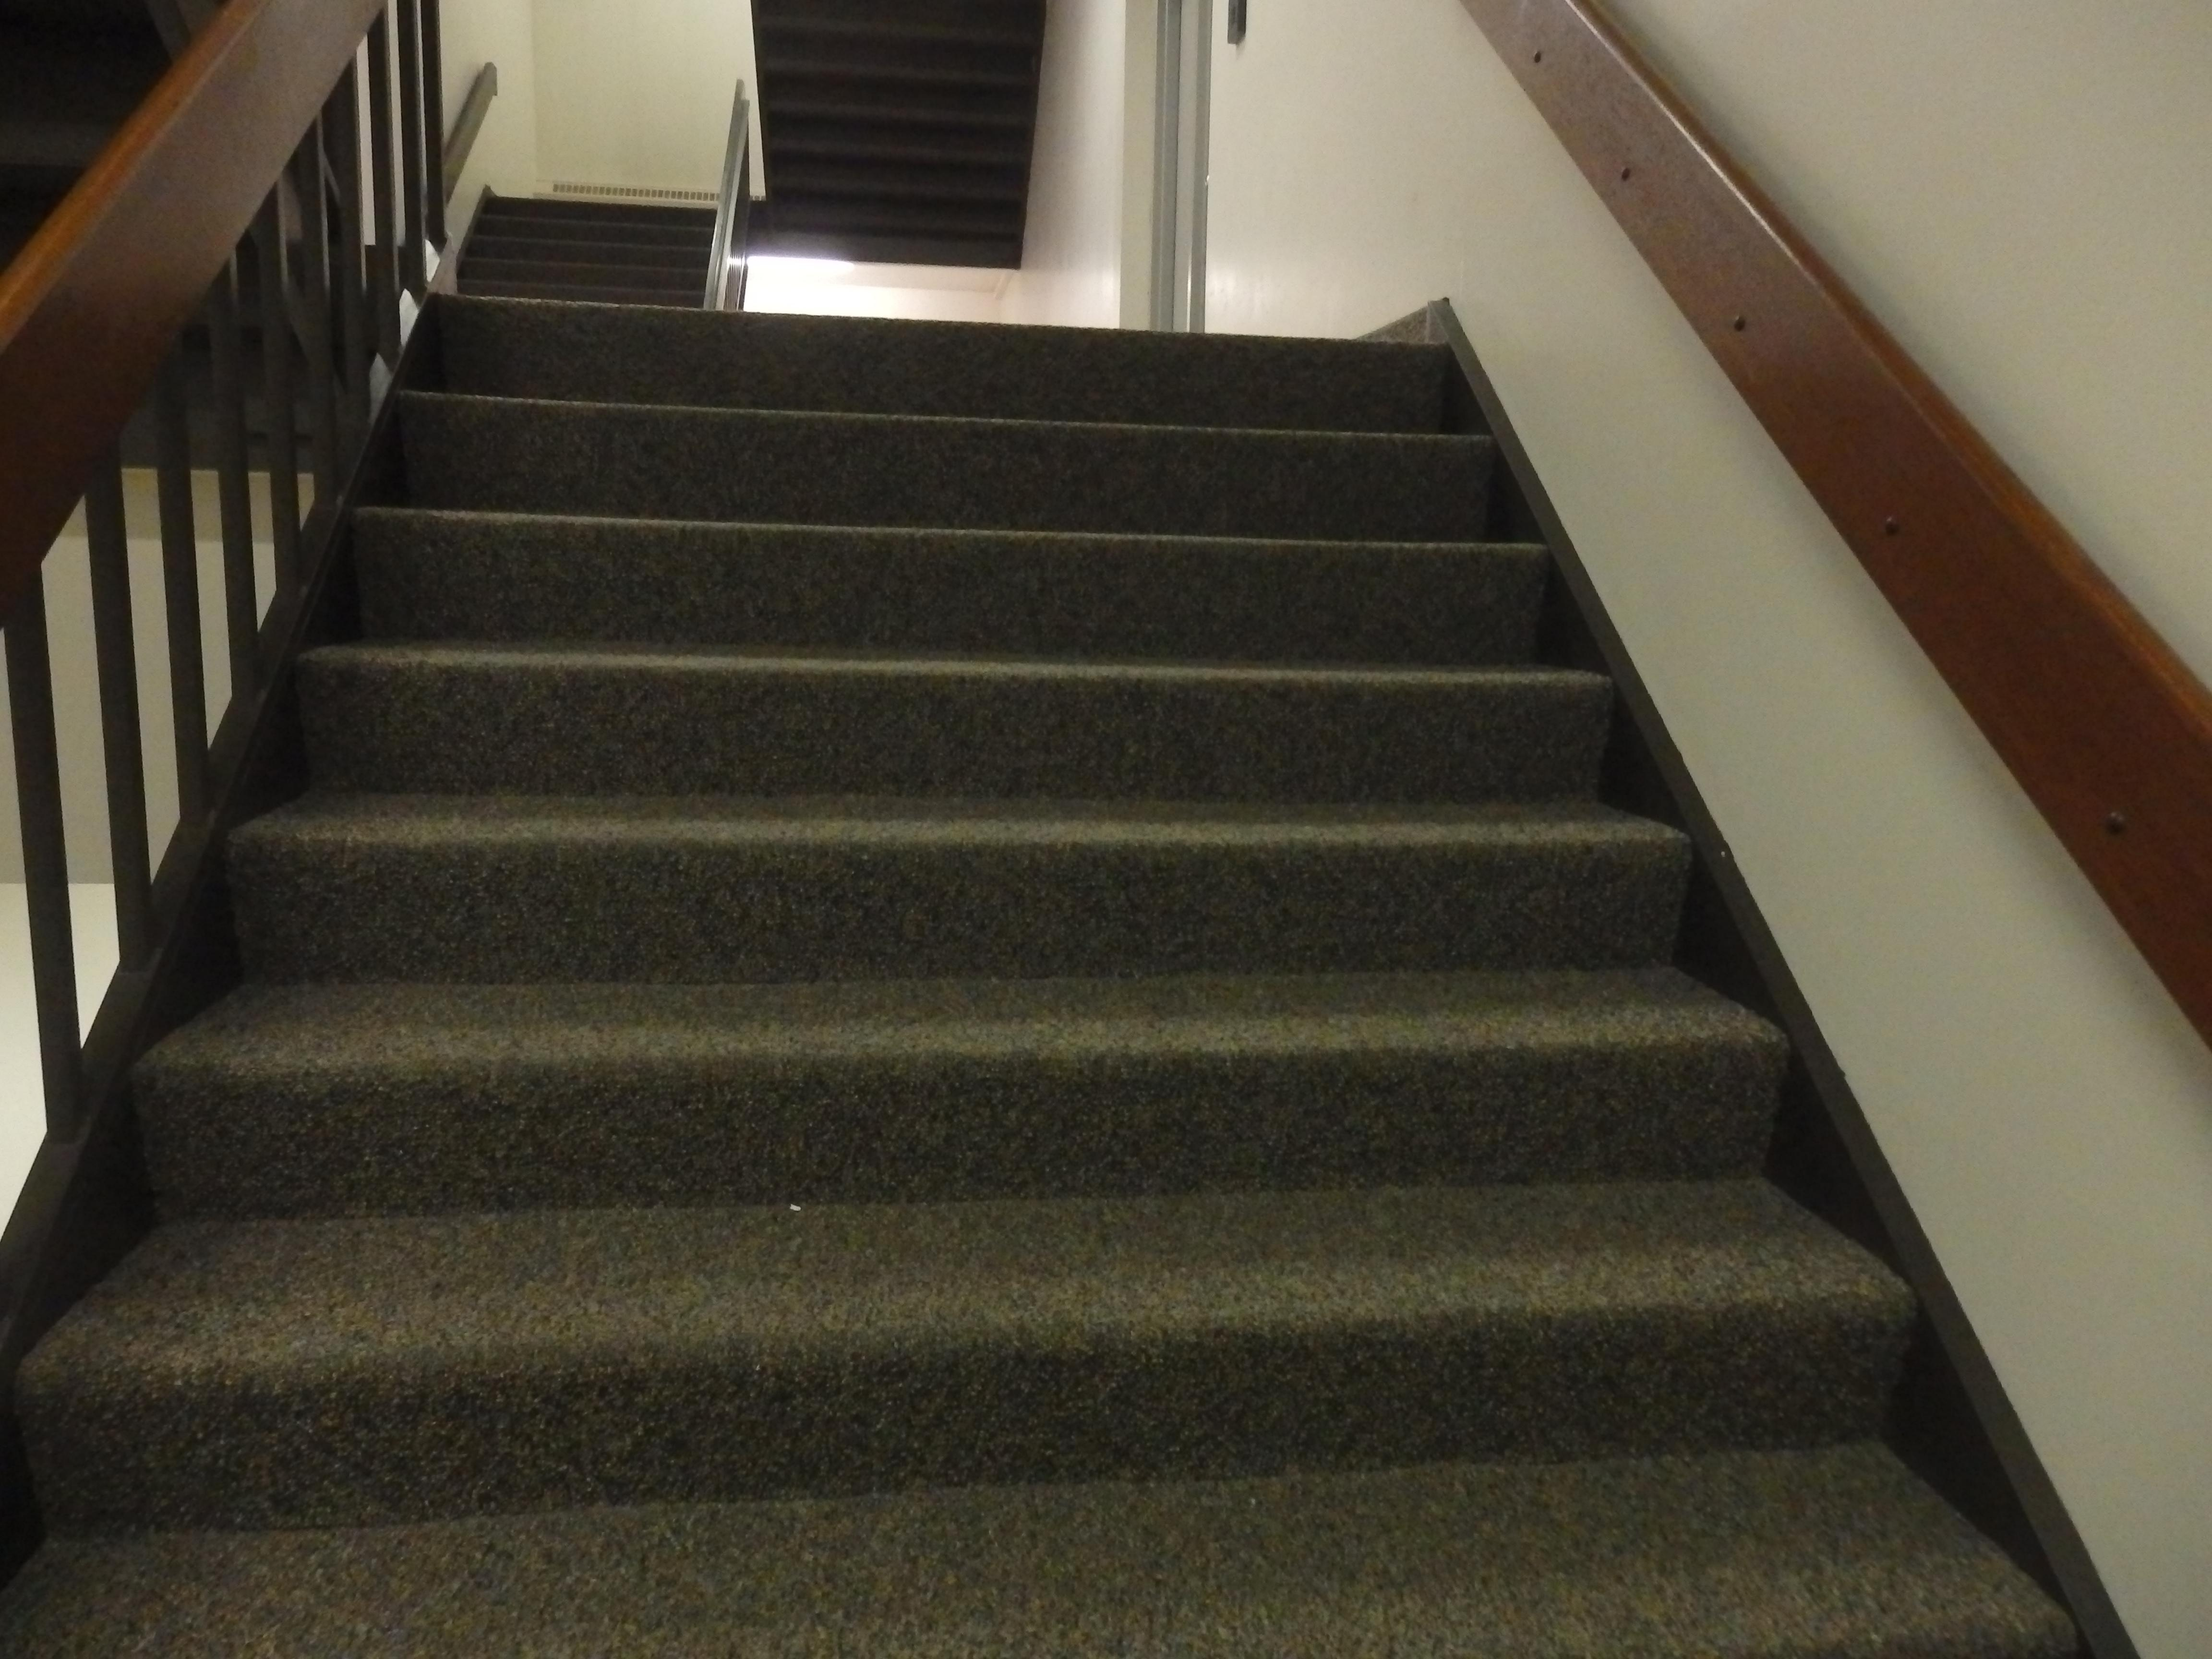stairs_up: (152, 277, 1935, 1478)
